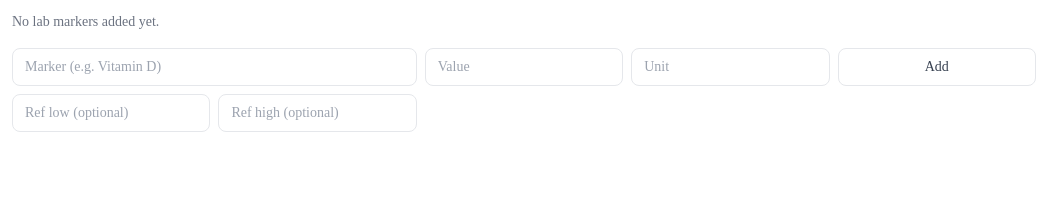
Test: LabMarkerTable — an auto-filled range follows its unit (U21) › clears the unit when a value typed before any unit meets a switch
Type "2" into the field with placeholder "Value". click: [524, 67]
box: 425,48 -> 623,86
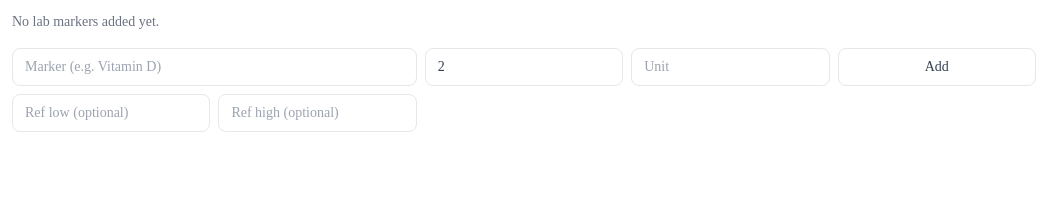
Type "Magnesium" into the field with placeholder "Marker (e.g. Vitamin D)". click: [214, 67]
box: 12,48 -> 417,86
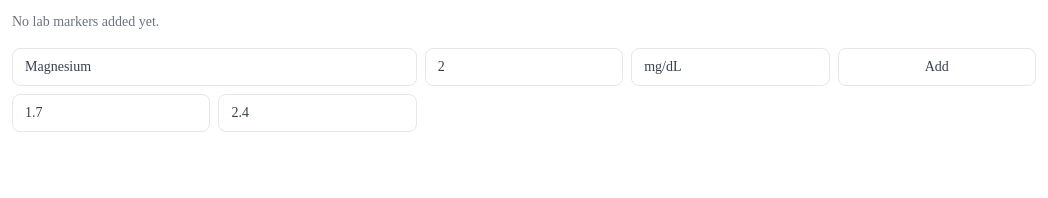
Replace the text in the 1st field with placeholder "Marker (e.g. Vitamin D)" with "hs-CRP". click: [214, 67]
box: 12,48 -> 417,86
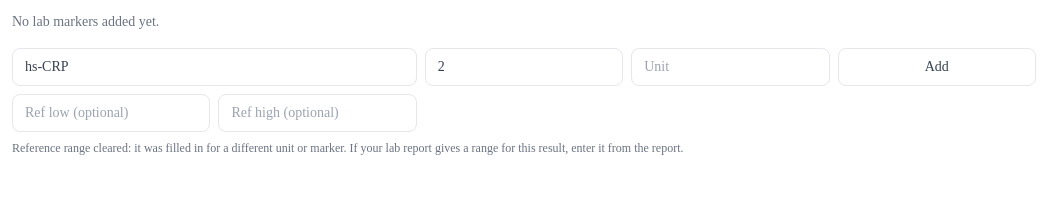
Check: the field with placeholder "Unit" is empty, box 631,48 -> 830,86
Click the button "Add". click: [937, 67]
box: 838,48 -> 1036,86
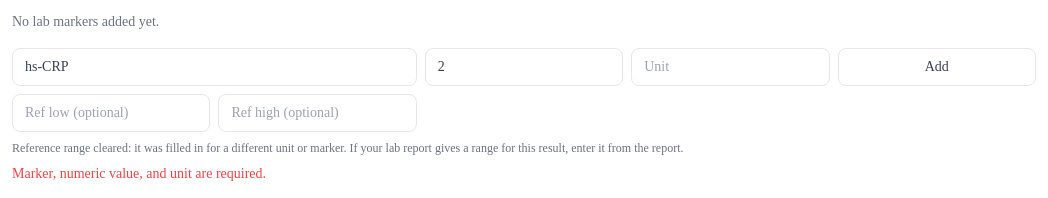
Check: the text "Marker, numeric value, and unit are required." is shown, box 12,166 -> 266,181
